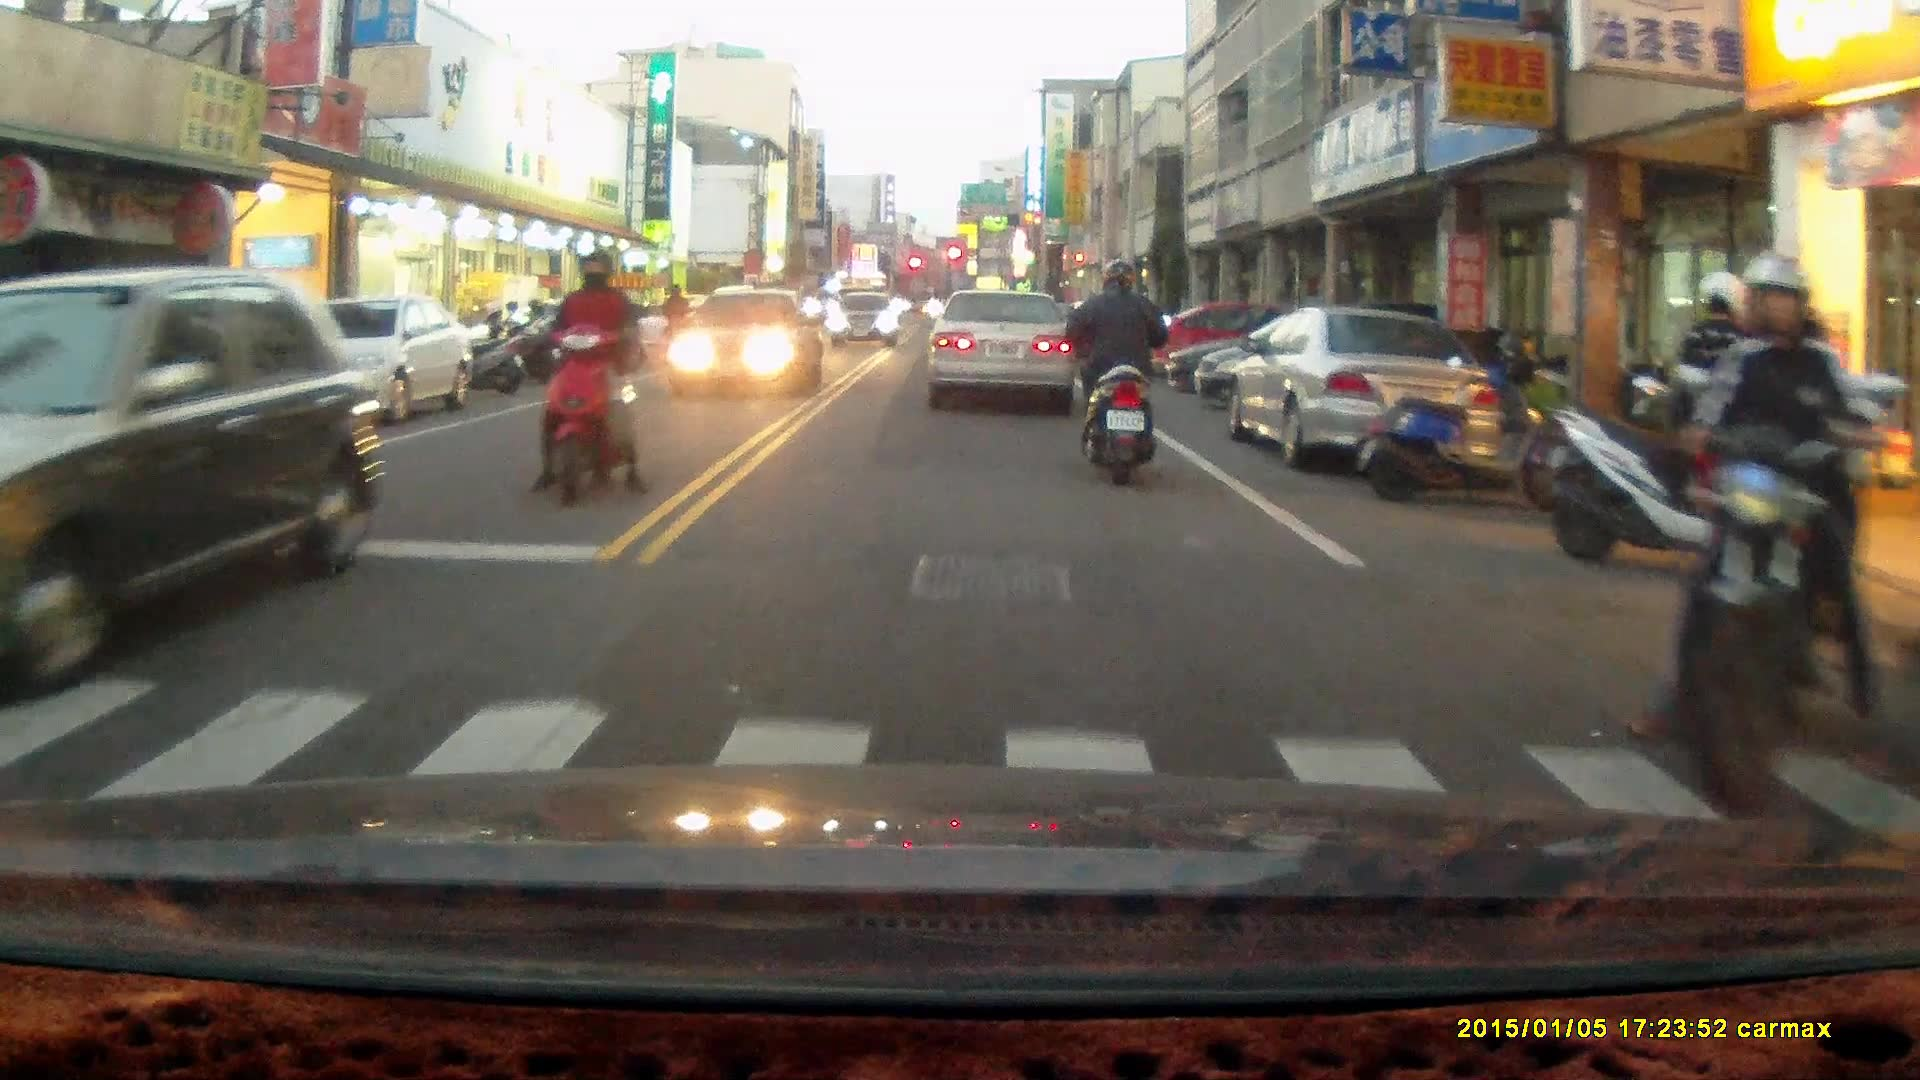pedestrian: (1670, 267, 1763, 588), (658, 283, 688, 355)
rider: (1621, 260, 1901, 817), (530, 246, 647, 507), (1067, 253, 1176, 481)
vehicle: (1, 268, 394, 671), (1226, 307, 1502, 475), (251, 292, 478, 429), (927, 290, 1081, 415), (1141, 294, 1359, 379), (670, 282, 826, 392), (825, 290, 902, 347)
